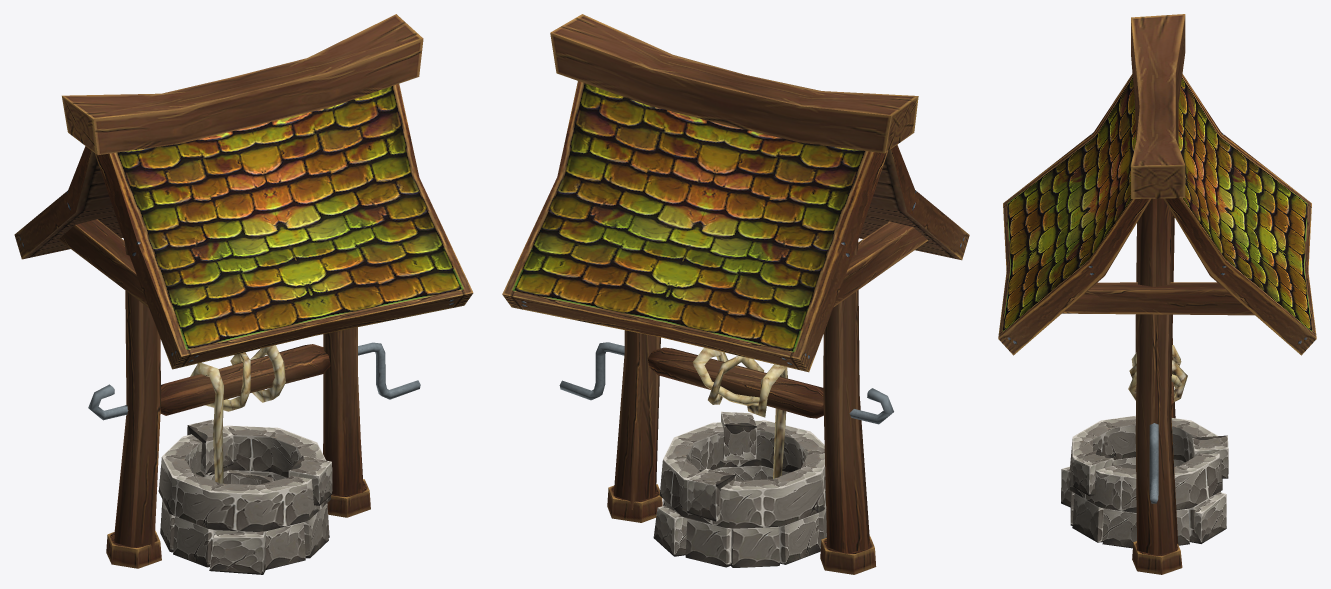
The model's file is well.fbx.
3 views of the same model, side by side, from view 1: azimuth 30°, elevation 25°; view 2: azimuth 150°, elevation 25°; view 3: azimuth 270°, elevation 25° (orthographic). The views are drawn at different scales.
Visible parts, largest first — view 1: well; view 2: well; view 3: well.
Part boxes in pixels (x1,y1,x2,y2): well: (14,14,473,574); well: (502,14,969,574); well: (998,14,1316,574).
Bounding box in the file's own units: 2827 × 2473 × 3762.
Materials: 1 (1 with a texture image).
